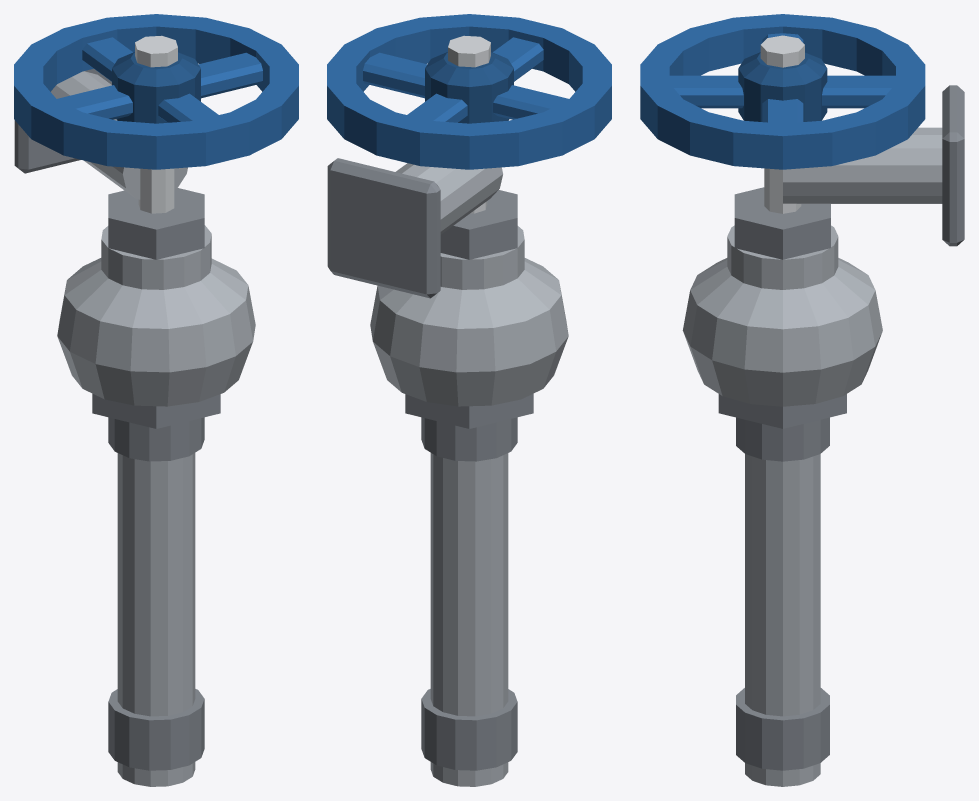
File: Registro_Knob.fbx
3 views of the same model, side by side, from view 1: azimuth 30°, elevation 25°; view 2: azimuth 150°, elevation 25°; view 3: azimuth 270°, elevation 25° (orthographic).
Parts seen in each view (by area): view 1: Registro_Knob, Volante, Cano; view 2: Cano, Volante, Registro_Knob; view 3: Cano, Volante, Registro_Knob.
Part boxes in pixels (x1,y1,x2,y2): Registro_Knob: (57,168,255,428); Volante: (14,14,298,169); Cano: (14,69,204,786); Cano: (327,158,517,786); Volante: (327,14,611,169); Registro_Knob: (370,190,568,428); Cano: (736,85,964,786); Volante: (640,14,925,169); Registro_Knob: (682,168,882,428).
Size of the model in its own units: 0.156 by 0.432 by 0.1748.
Materials: 1 (1 with a texture image).
